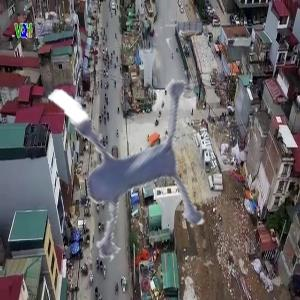drone: (1, 21, 267, 287)
